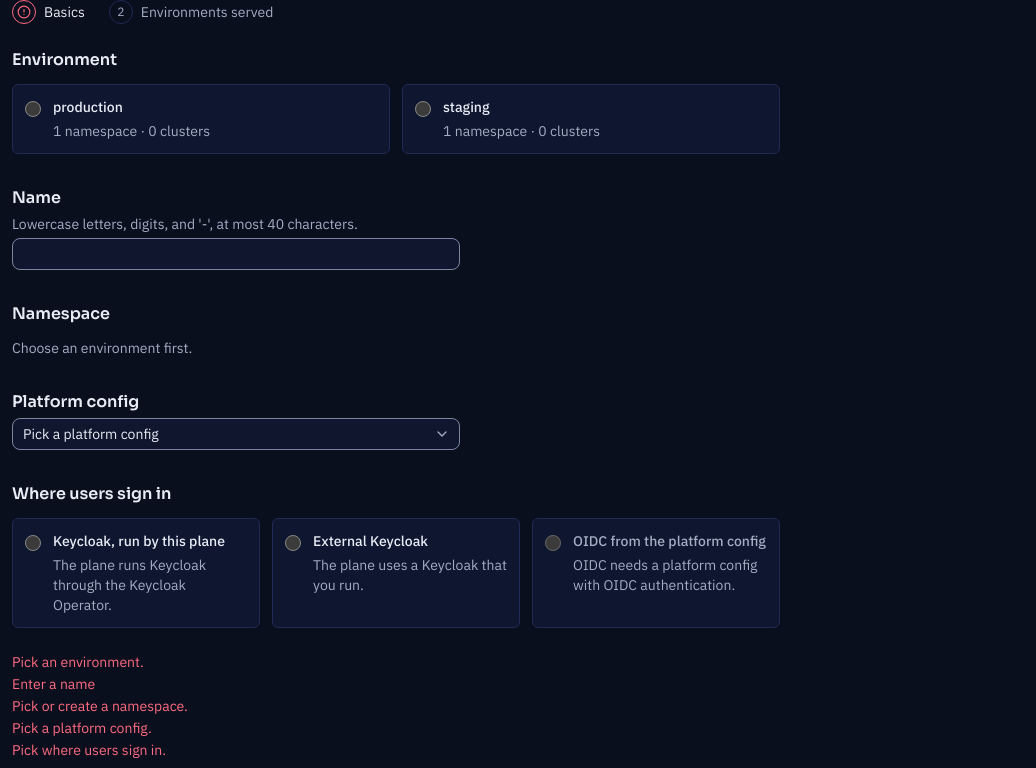
it: PlaneCreateFlow › blocks Next on step 1 until the basics are complete
This screenshot has width=1036, height=768.
Click the radio button labelled "production 1 namespace · 0 clusters" at (33,109), box [25, 101, 41, 117]
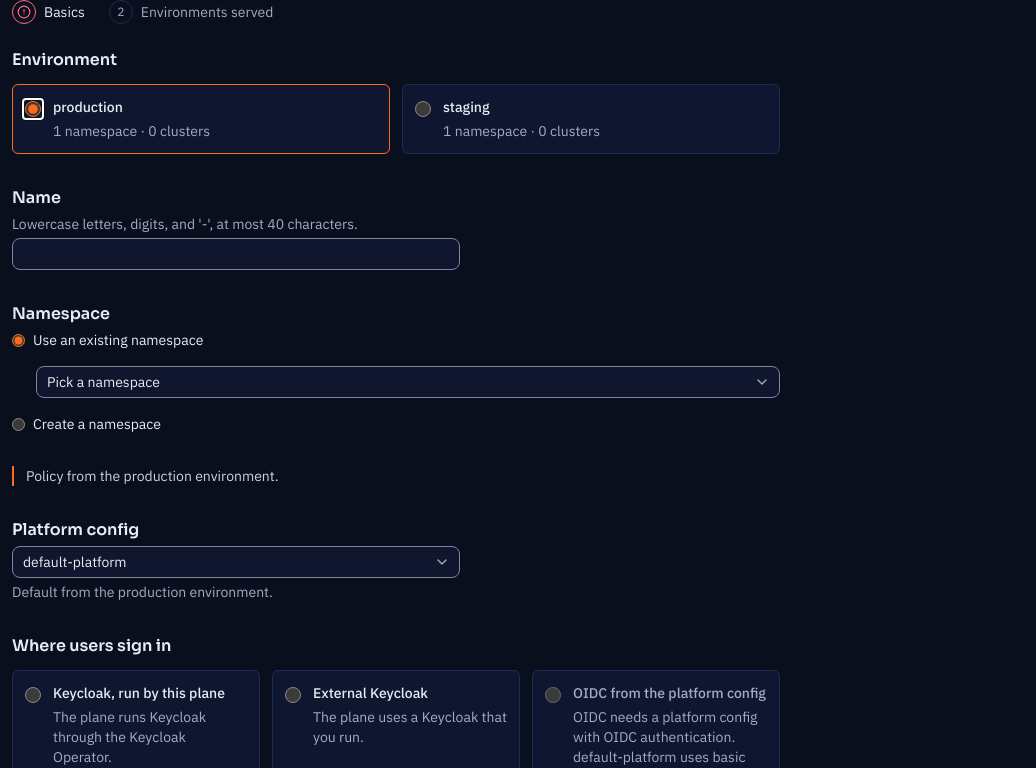
Type "plane-a" into the field labelled "Name" at (236,254), box [12, 238, 460, 270]
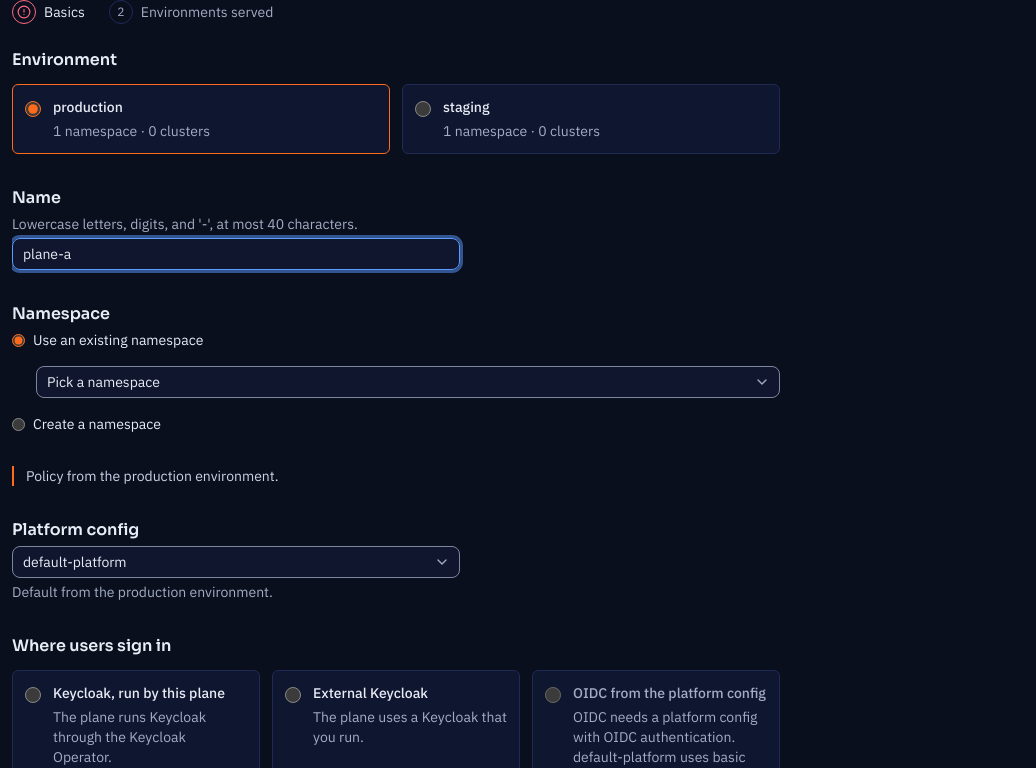
Select "platform" in the dropdown named "Namespace" at (408,382), box [36, 366, 780, 398]
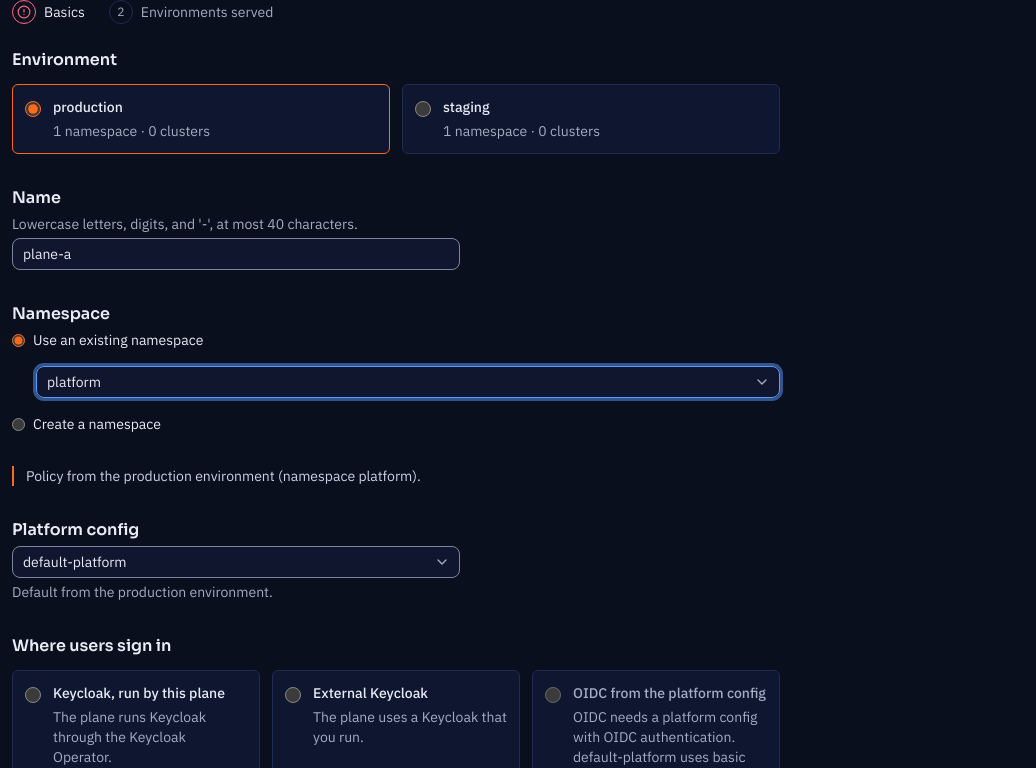
Click the radio button labelled "Keycloak, run by this plane" at (33,695), box [25, 687, 41, 703]
(page scrolled)
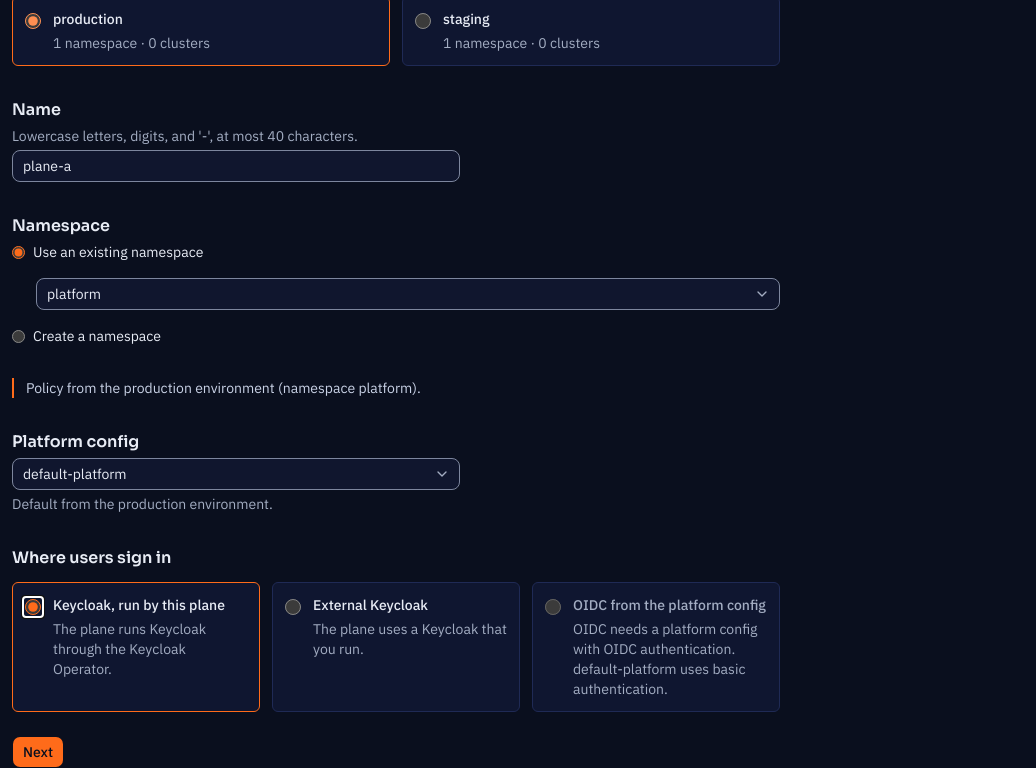
Check: the button "Next" is enabled, box [12, 736, 64, 767]
